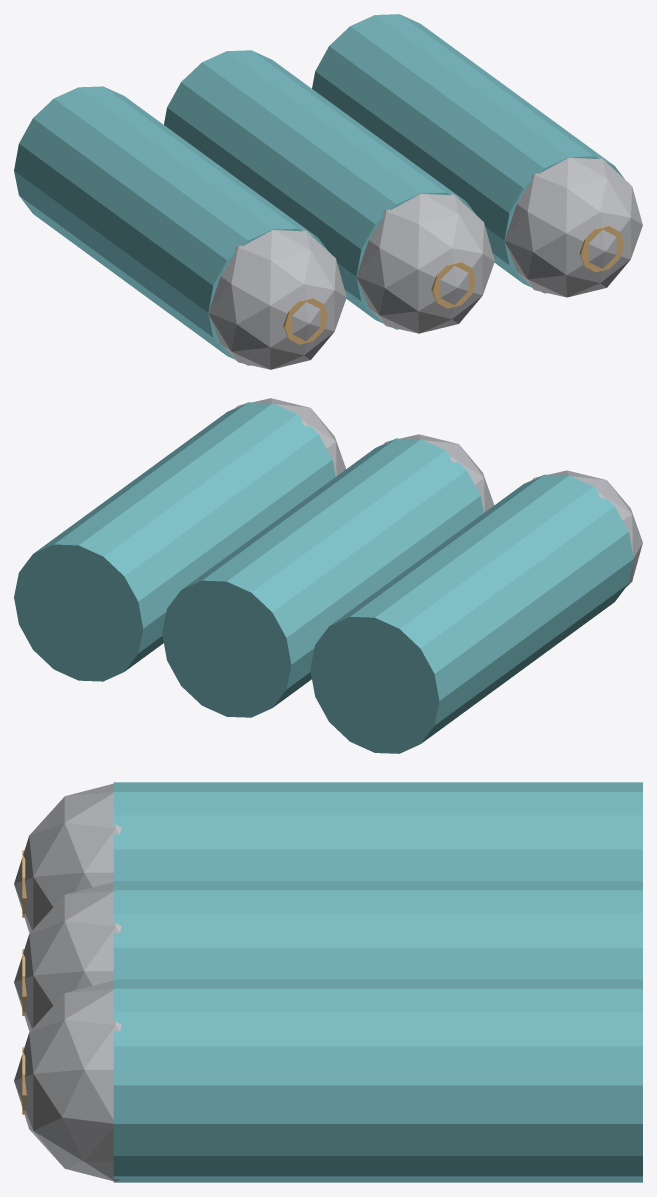
Rendered from oxygen_tank_rack.glb.
3 views of the same model, one above another, from view 1: azimuth 30°, elevation 25°; view 2: azimuth 150°, elevation 25°; view 3: azimuth 270°, elevation 25° (orthographic). The views are drawn at different scales.
Visible parts, largest first — view 1: oxygen_tank_rack_0, oxygen_tank_rack_3, oxygen_tank_rack_6, oxygen_tank_rack_7, oxygen_tank_rack_4, oxygen_tank_rack_1, oxygen_tank_rack_5, oxygen_tank_rack_8, oxygen_tank_rack_2; view 2: oxygen_tank_rack_0, oxygen_tank_rack_6, oxygen_tank_rack_3, oxygen_tank_rack_1, oxygen_tank_rack_4, oxygen_tank_rack_7; view 3: oxygen_tank_rack_6, oxygen_tank_rack_0, oxygen_tank_rack_3, oxygen_tank_rack_7, oxygen_tank_rack_1, oxygen_tank_rack_4.
Part boxes in pixels (box(x1,y1,x2,y2)): oxygen_tank_rack_0: box(14, 86, 328, 365); oxygen_tank_rack_3: box(164, 50, 476, 329); oxygen_tank_rack_6: box(312, 14, 624, 293); oxygen_tank_rack_7: box(505, 157, 642, 297); oxygen_tank_rack_4: box(357, 193, 494, 333); oxygen_tank_rack_1: box(208, 230, 346, 369); oxygen_tank_rack_5: box(431, 262, 475, 308); oxygen_tank_rack_8: box(579, 225, 623, 272); oxygen_tank_rack_2: box(283, 298, 327, 344); oxygen_tank_rack_0: box(310, 474, 633, 753); oxygen_tank_rack_6: box(14, 402, 335, 681); oxygen_tank_rack_3: box(162, 438, 483, 717); oxygen_tank_rack_1: box(531, 470, 642, 586); oxygen_tank_rack_4: box(383, 434, 494, 512); oxygen_tank_rack_7: box(235, 398, 345, 476); oxygen_tank_rack_6: box(113, 979, 642, 1182); oxygen_tank_rack_0: box(113, 782, 642, 880); oxygen_tank_rack_3: box(113, 881, 642, 979); oxygen_tank_rack_7: box(14, 980, 121, 1181); oxygen_tank_rack_1: box(14, 783, 121, 932); oxygen_tank_rack_4: box(14, 882, 121, 1031).
Bounding box in the file's own units: 1.58 × 0.48 × 1.48.
